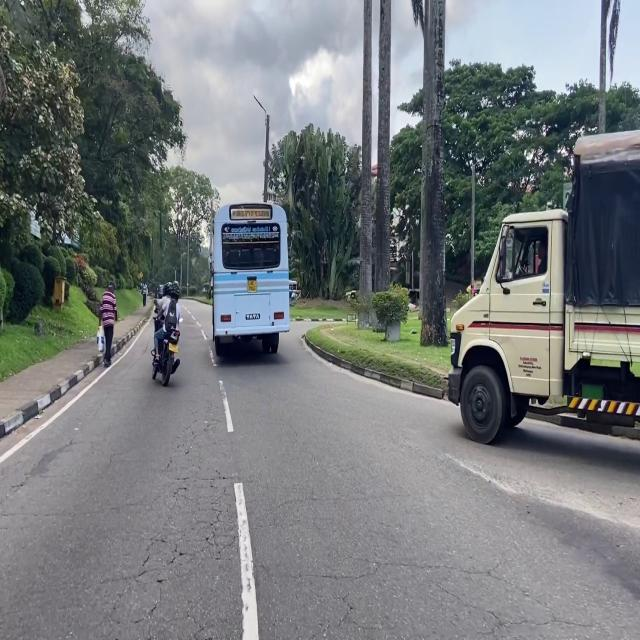bus: (212, 203, 290, 356)
motorcycle: (151, 312, 179, 386)
person: (154, 281, 182, 361), (98, 280, 117, 367), (154, 282, 171, 313), (141, 283, 148, 306)
truck: (448, 130, 640, 442)
van: (157, 284, 163, 298)
